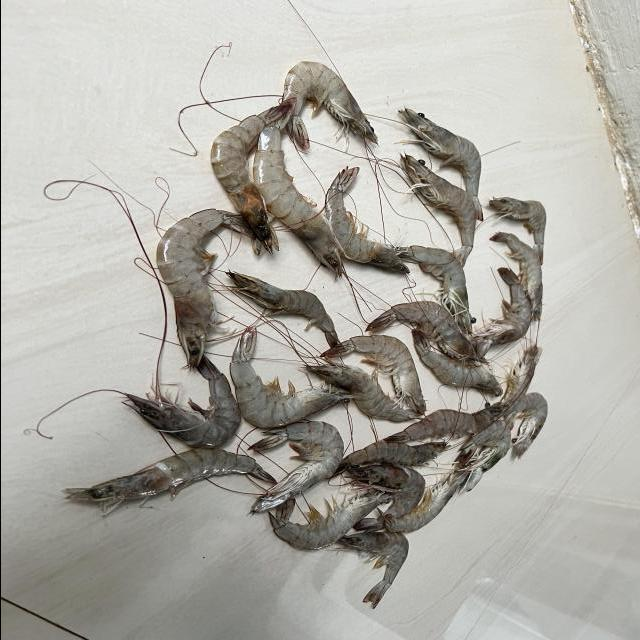shrimp: (252, 123, 344, 277), (155, 208, 240, 369), (210, 97, 295, 252), (229, 327, 353, 428), (62, 449, 275, 505), (123, 357, 241, 448), (395, 108, 483, 220), (324, 167, 409, 274), (248, 422, 343, 514), (225, 272, 339, 347), (401, 154, 477, 266), (320, 335, 426, 415), (282, 61, 377, 149), (270, 490, 390, 552), (306, 363, 419, 423), (365, 301, 477, 361), (397, 246, 472, 334), (413, 330, 503, 397), (375, 472, 468, 534), (335, 533, 408, 610), (471, 268, 532, 358), (490, 232, 543, 321), (385, 403, 502, 443), (331, 442, 450, 478), (345, 466, 425, 518), (457, 420, 511, 492), (489, 197, 546, 264), (500, 345, 542, 417), (503, 392, 547, 459)
